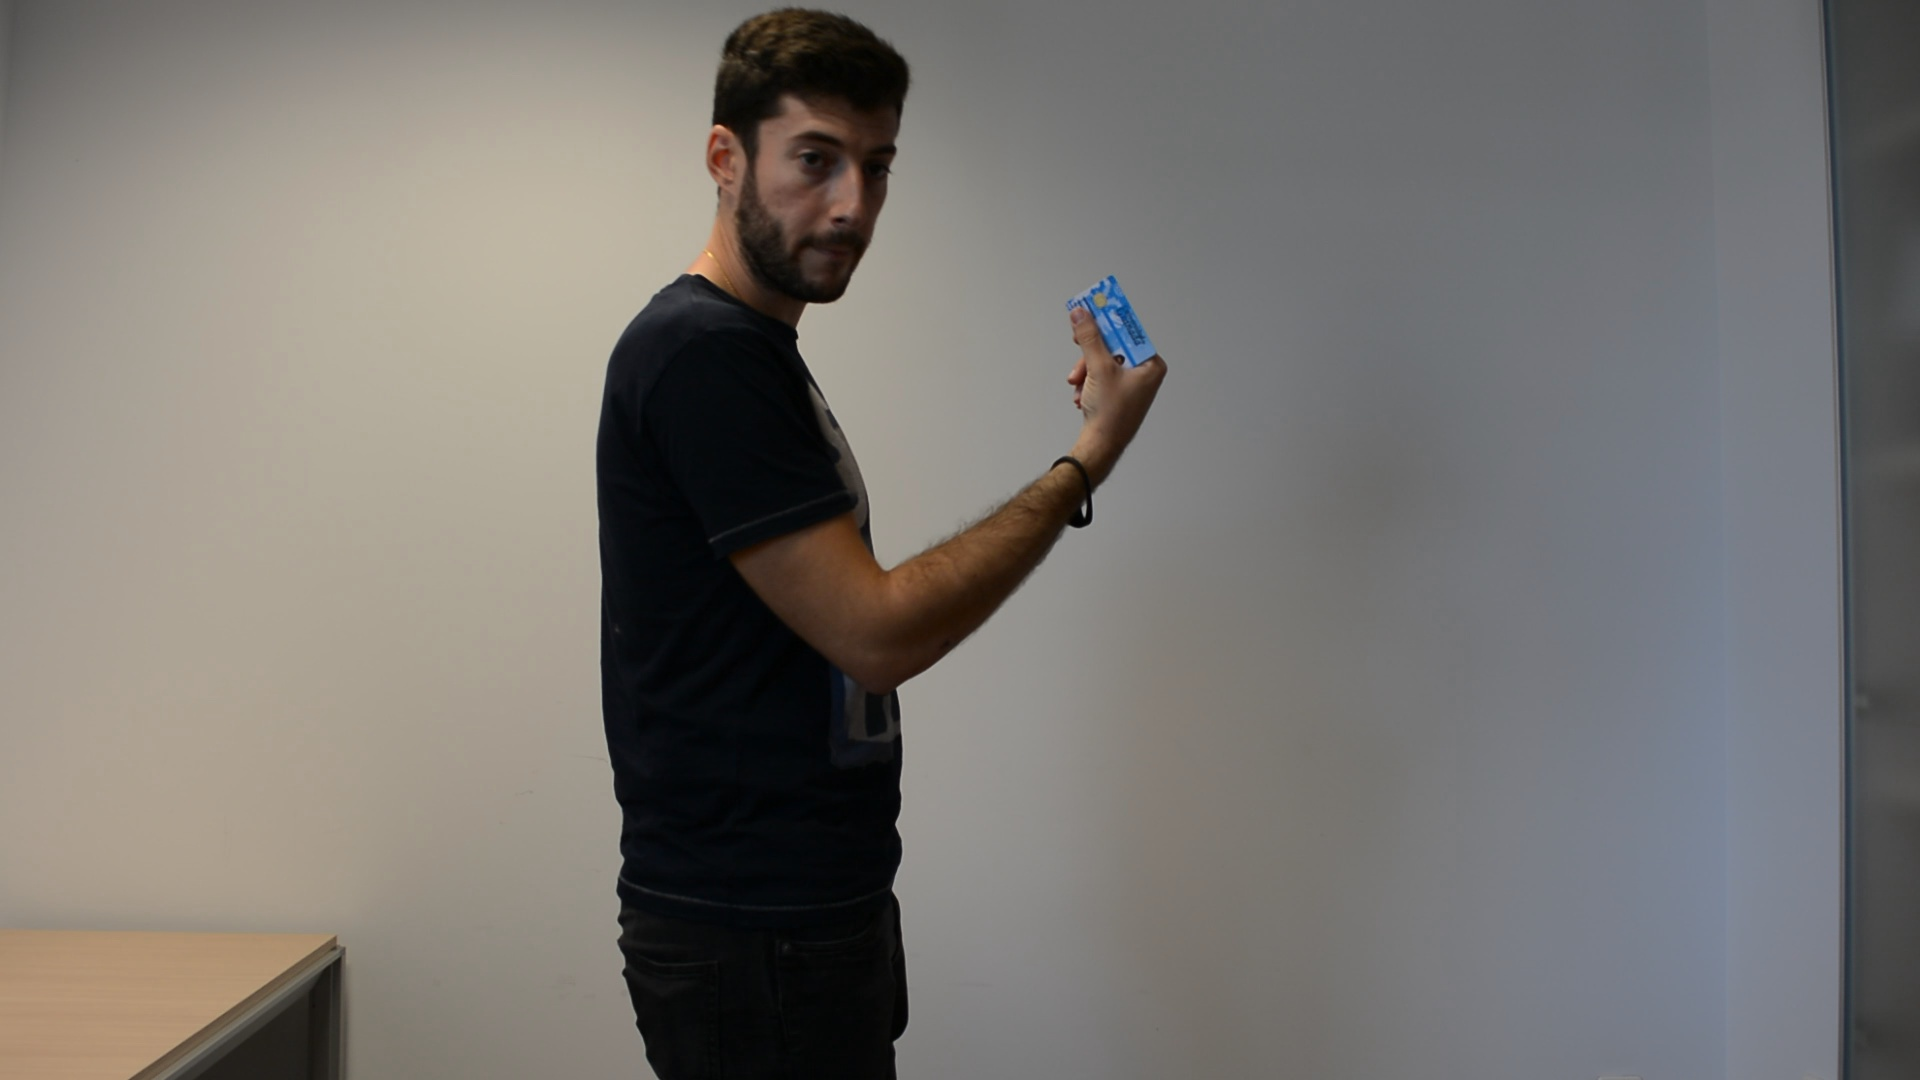tarjeta: (1062, 274, 1160, 371)
